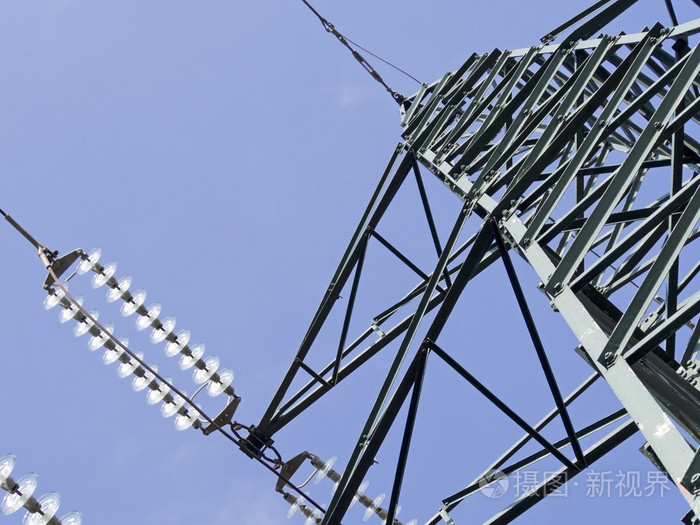insulator: (45, 285, 201, 432), (79, 251, 234, 395), (1, 453, 78, 525)
